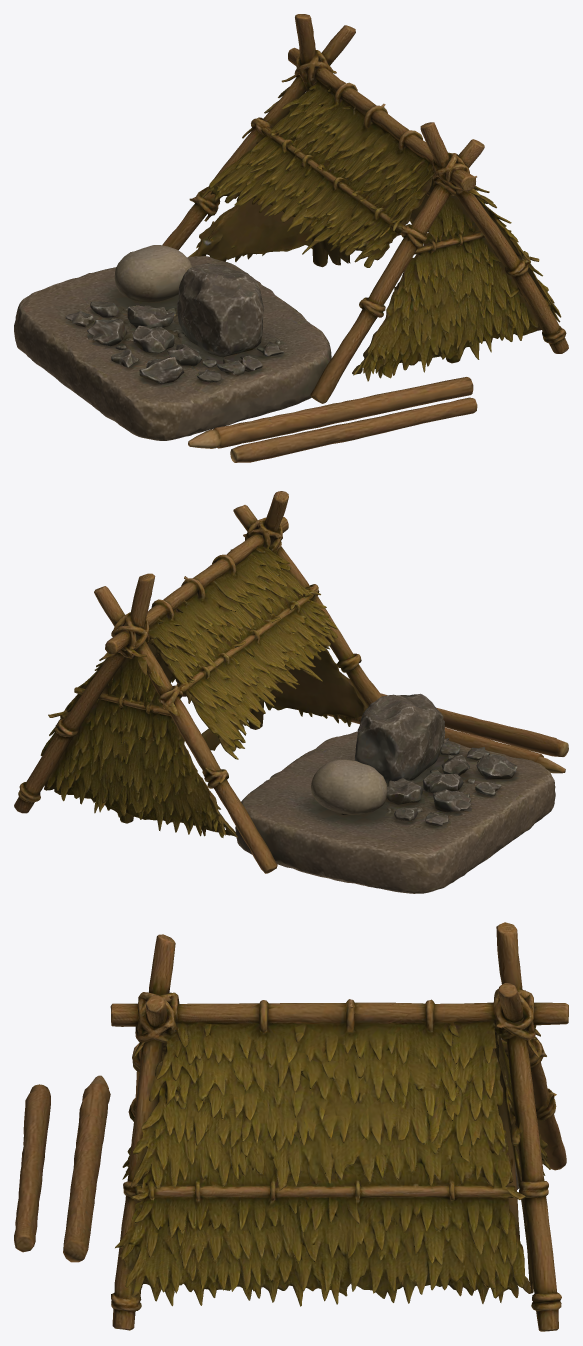
The model's file is Tool Maker (South Asian).fbx.
3 renders of one model, top to bottom at view 1: azimuth 30°, elevation 25°; view 2: azimuth 150°, elevation 25°; view 3: azimuth 270°, elevation 25°, orthographic. The views are drawn at different scales.
Parts seen in each view (by area): view 1: tripo_node_3bbb3183; view 2: tripo_node_3bbb3183; view 3: tripo_node_3bbb3183.
Boxes of the visible parts, left/top/right/bottom form: tripo_node_3bbb3183: left=14, top=14, right=568, bottom=462; tripo_node_3bbb3183: left=14, top=491, right=568, bottom=893; tripo_node_3bbb3183: left=14, top=922, right=568, bottom=1331.
Size of the model in its own units: 1 by 0.6023 by 0.884.
